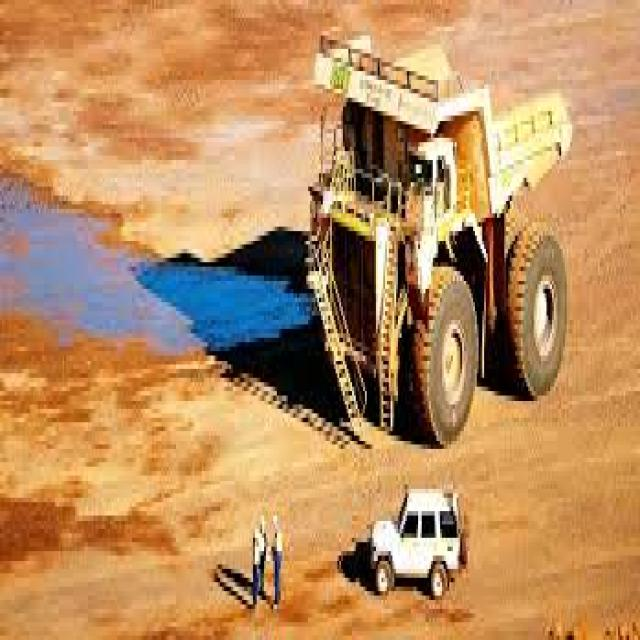dump_truck: (290, 18, 583, 440)
light_vehicle: (358, 476, 471, 614)
